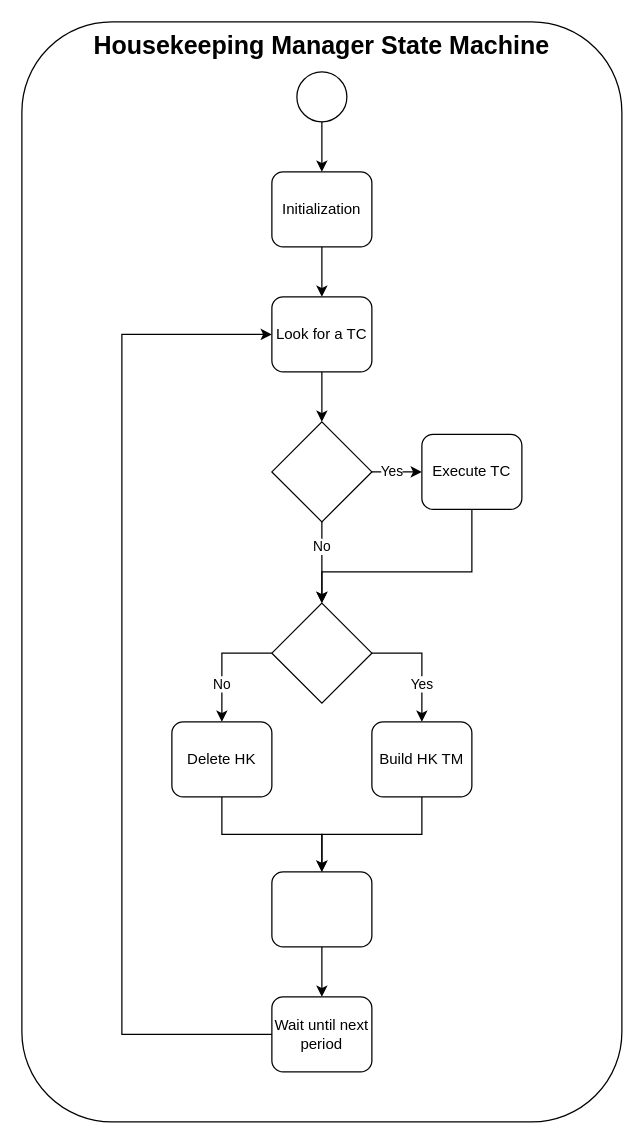
Some shapes in this 644 by 1144 pixel diagram are drawn without their labels. The centre of each missing label's shape, as x and y in pixels:
"Entry" belongs at point (321, 96).
"HK Enable ?" belongs at point (321, 652).
"Send Life Signal" belongs at point (321, 909).
"TC Presence ?" belongs at point (321, 471).
